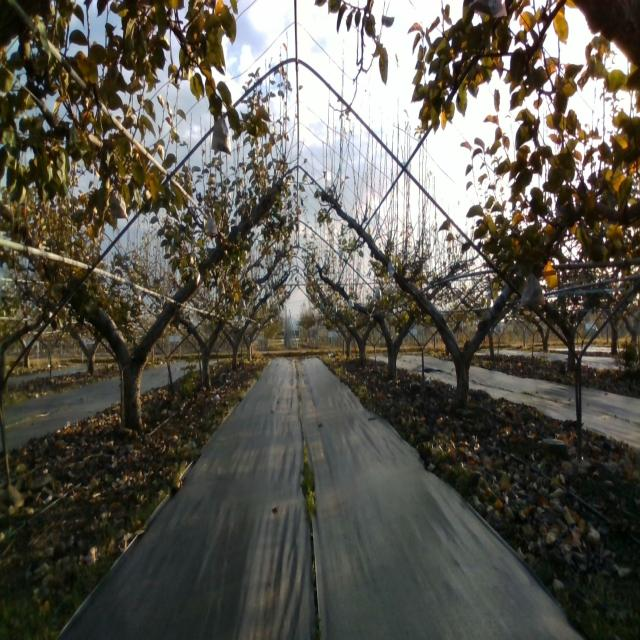pearbags: (520, 272, 545, 309), (211, 116, 231, 156), (109, 188, 129, 224), (204, 211, 218, 237)
